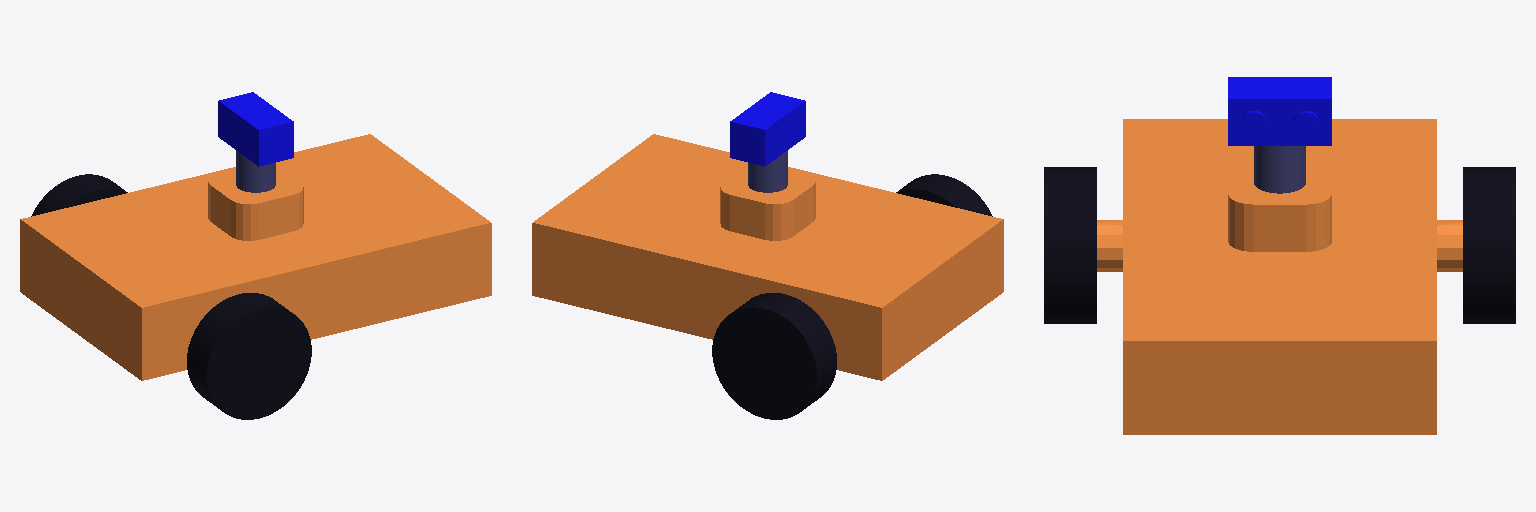
The robot description file, URDF, robot "my_bot1":
<?xml version="1.0" encoding="utf-8"?>
<!-- This URDF was automatically created by SolidWorks to URDF Exporter! Originally created by [author] ([email redacted]) 
     Commit Version: 1.6.0-4-g7f85cfe  Build Version: 1.6.7995.38578
     For more information, please see http://wiki.ros.org/sw_urdf_exporter -->
<robot
  name="my_bot1">
  <link
    name="base_link">
    <inertial>
      <origin
        xyz="0.00025836 8.6736E-19 -0.0098101"
        rpy="0 0 0" />
      <mass
        value="0.12667" />
      <inertia
        ixx="4.2301E-05"
        ixy="8.6253E-22"
        ixz="6.2799E-07"
        iyy="0.00010727"
        iyz="-3.6021E-22"
        izz="0.00013894" />
    </inertial>
    <visual>
      <origin
        xyz="0 0 0"
        rpy="0 0 0" />
      <geometry>
        <mesh
          filename="package://my_bot1/meshes/base_link.STL" />
      </geometry>
      <material
        name="">
        <color
          rgba="1 0.6 0.3 1" />
      </material>
    </visual>
    <collision>
      <origin
        xyz="0 0 0"
        rpy="0 0 0" />
      <geometry>
        <mesh
          filename="package://my_bot1/meshes/base_link.STL" />
      </geometry>
    </collision>
  </link>
  <link
    name="left_wheel">
    <inertial>
      <origin
        xyz="0 -0.005 0"
        rpy="0 0 0" />
      <mass
        value="0.0070686" />
      <inertia
        ixx="4.5651E-07"
        ixy="-1.0245E-39"
        ixz="0"
        iyy="7.9522E-07"
        iyz="1.0151E-39"
        izz="4.5651E-07" />
    </inertial>
    <visual>
      <origin
        xyz="0 0 0"
        rpy="0 0 0" />
      <geometry>
        <mesh
          filename="package://my_bot1/meshes/left_wheel.STL" />
      </geometry>
      <material
        name="">
        <color
          rgba="0.1 0.1 0.15 1" />
      </material>
    </visual>
    <collision>
      <origin
        xyz="0 0 0"
        rpy="0 0 0" />
      <geometry>
        <mesh
          filename="package://my_bot1/meshes/left_wheel.STL" />
      </geometry>
    </collision>
  </link>
  <joint
    name="left_wheel_joint"
    type="continuous">
    <origin
      xyz="-0.025 0.045 -0.015"
      rpy="0 0 0" />
    <parent
      link="base_link" />
    <child
      link="left_wheel" />
    <axis
      xyz="0 1 0" />
  </joint>
  <link
    name="right_wheel">
    <inertial>
      <origin
        xyz="0 0.005 0"
        rpy="0 0 0" />
      <mass
        value="0.0070686" />
      <inertia
        ixx="4.5651E-07"
        ixy="-1.0245E-39"
        ixz="4.7793E-55"
        iyy="7.9522E-07"
        iyz="2.6254E-39"
        izz="4.5651E-07" />
    </inertial>
    <visual>
      <origin
        xyz="0 0 0"
        rpy="0 0 0" />
      <geometry>
        <mesh
          filename="package://my_bot1/meshes/right_wheel.STL" />
      </geometry>
      <material
        name="">
        <color
          rgba="0.1 0.1 0.15 1" />
      </material>
    </visual>
    <collision>
      <origin
        xyz="0 0 0"
        rpy="0 0 0" />
      <geometry>
        <mesh
          filename="package://my_bot1/meshes/right_wheel.STL" />
      </geometry>
    </collision>
  </link>
  <joint
    name="right_wheel_joint"
    type="continuous">
    <origin
      xyz="-0.025 -0.045 -0.015"
      rpy="0 0 0" />
    <parent
      link="base_link" />
    <child
      link="right_wheel" />
    <axis
      xyz="0 1 0" />
  </joint>
  <link
    name="stepper">
    <inertial>
      <origin
        xyz="0.00025836 8.6736E-19 -0.0098101"
        rpy="0 0 0" />
      <mass
        value="0.12667" />
      <inertia
        ixx="4.2301E-05"
        ixy="8.6253E-22"
        ixz="6.2799E-07"
        iyy="0.00010727"
        iyz="-3.6021E-22"
        izz="0.00013894" />
    </inertial>
    <visual>
      <origin
        xyz="0 0 0"
        rpy="0 0 0" />
      <geometry>
        <mesh
          filename="package://my_bot1/meshes/stepper.STL" />
      </geometry>
      <material
        name="">
        <color
          rgba="0.3 0.3 0.5 1" />
      </material>
    </visual>
    <collision>
      <origin
        xyz="0 0 0"
        rpy="0 0 0" />
      <geometry>
        <mesh
          filename="package://my_bot1/meshes/stepper.STL" />
      </geometry>
    </collision>
  </link>
  <joint
    name="stepper_joint"
    type="continuous">
    <origin
      xyz="0 0 0.02"
      rpy="0 0 0" />
    <parent
      link="base_link" />
    <child
      link="stepper" />
    <axis
      xyz="0 0 -1" />
  </joint>
  <link
    name="lidar">
    <inertial>
      <origin
        xyz="0.00010591 -1.7347E-18 -0.005"
        rpy="0 0 0" />
      <mass
        value="0.0020393" />
      <inertia
        ixx="8.4438E-08"
        ixy="7.4517E-24"
        ixz="-3.499E-24"
        iyy="3.4563E-08"
        iyz="2.8674E-24"
        izz="8.5545E-08" />
    </inertial>
    <visual>
      <origin
        xyz="0 0 0"
        rpy="0 0 0" />
      <geometry>
        <mesh
          filename="package://my_bot1/meshes/lidar.STL" />
      </geometry>
      <material
        name="">
        <color
          rgba="0.1 0.1 1 1" />
      </material>
    </visual>
    <collision>
      <origin
        xyz="0 0 0"
        rpy="0 0 0" />
      <geometry>
        <mesh
          filename="package://my_bot1/meshes/lidar.STL" />
      </geometry>
    </collision>
  </link>
  <joint
    name="lidar_joint"
    type="fixed">
    <origin
      xyz="0 0 0.01"
      rpy="0 0 0" />
    <parent
      link="stepper" />
    <child
      link="lidar" />
    <axis
      xyz="0 0 0" />
  </joint>
</robot>

--- What the picture shows (computed from the rendered views, not written in the file) ---
Views: 3 orthographic renders of the robot side by side, from view 1: azimuth 30°, elevation 25°; view 2: azimuth 150°, elevation 25°; view 3: azimuth 270°, elevation 25°.
Robot: my_bot1 — 5 links, 4 joints (3 continuous, 1 fixed); root link base_link; default pose: all joints at 0.
Visible links, largest first — view 1: base_link, right_wheel, lidar, left_wheel, stepper; view 2: base_link, left_wheel, lidar, right_wheel, stepper; view 3: base_link, left_wheel, right_wheel, lidar, stepper.
Link boxes in pixels (<box>): base_link: <box>20,134,491,380</box>; right_wheel: <box>187,293,311,419</box>; lidar: <box>218,92,293,166</box>; left_wheel: <box>31,174,127,216</box>; stepper: <box>236,150,275,192</box>; base_link: <box>532,134,1003,380</box>; left_wheel: <box>712,293,836,419</box>; lidar: <box>730,92,805,166</box>; right_wheel: <box>896,174,992,216</box>; stepper: <box>748,150,787,192</box>; base_link: <box>1097,119,1462,434</box>; left_wheel: <box>1463,167,1515,323</box>; right_wheel: <box>1044,167,1096,323</box>; lidar: <box>1228,77,1331,145</box>; stepper: <box>1254,146,1305,193</box>.
Bounding box of the posed robot: 0.1 × 0.09 × 0.06 m (x, y, z).
Meshes: 5 distinct files referenced, 5 mesh visuals loaded (5 binary STL).